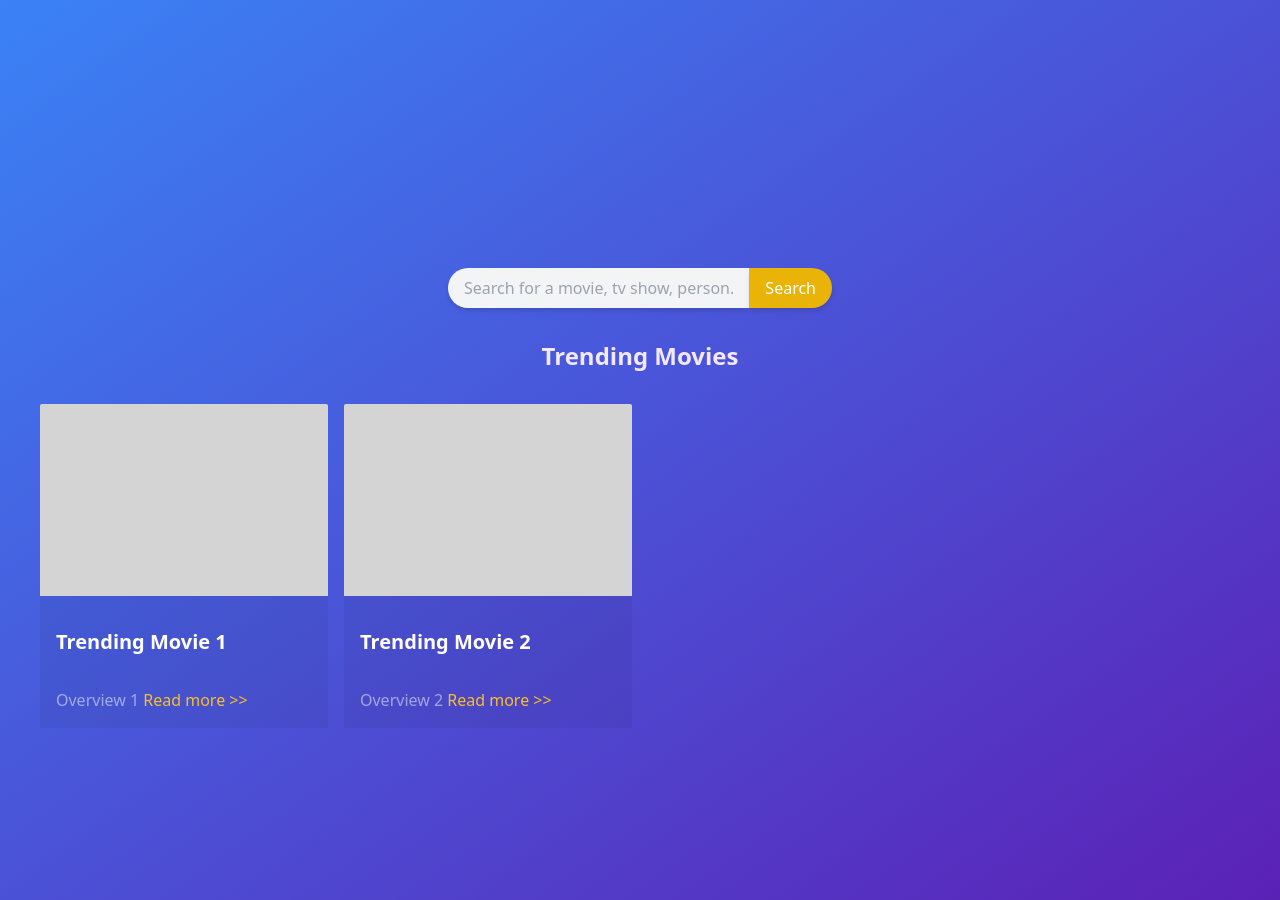
Test: App › should fetch search results when a search is performed
Type "Test Search" into the field with placeholder "Search for a movie, tv show, person....".
click(599, 288); type("Test Search")  # box [448, 268, 749, 308]
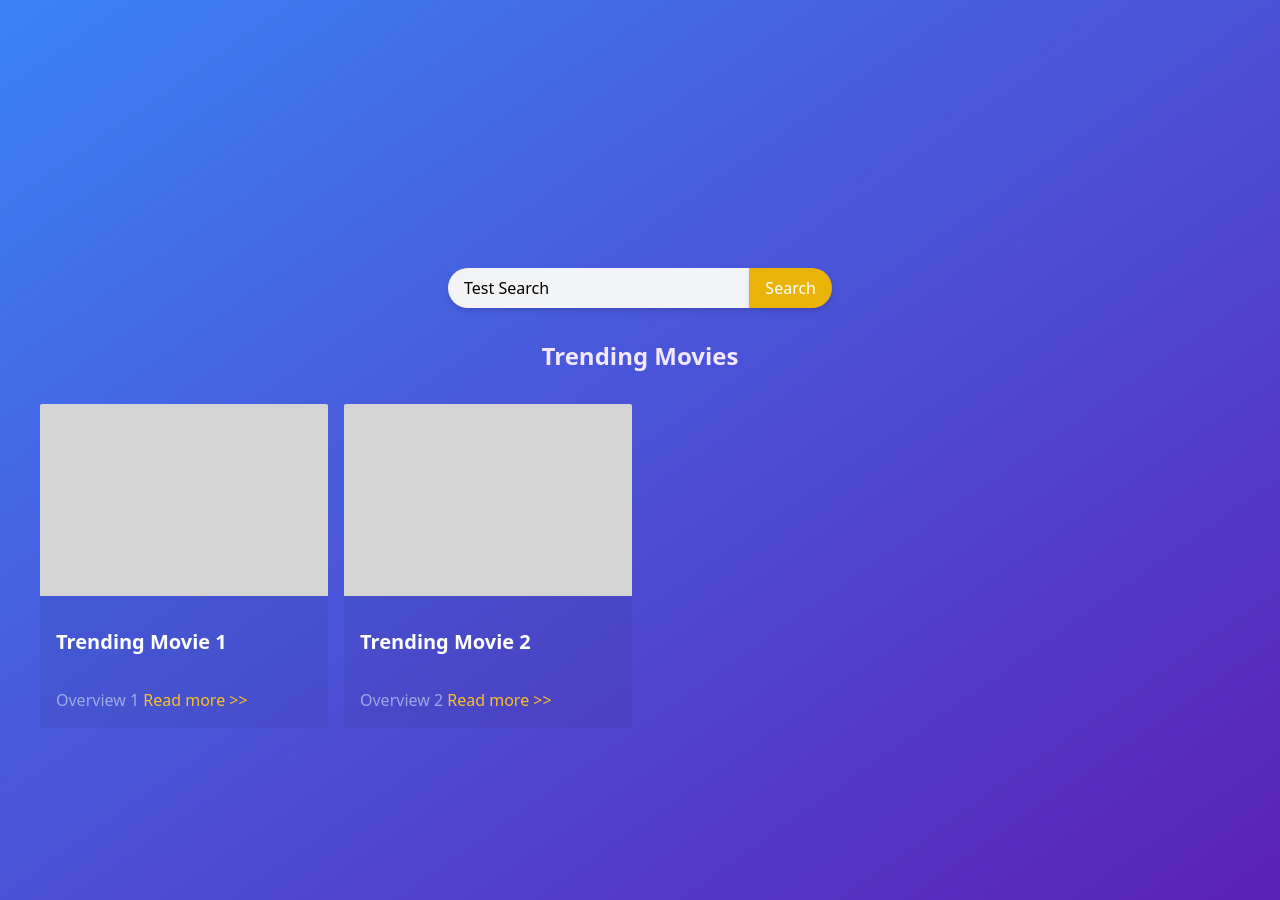
Click the button "Search".
click(791, 288)  # box [749, 268, 832, 308]
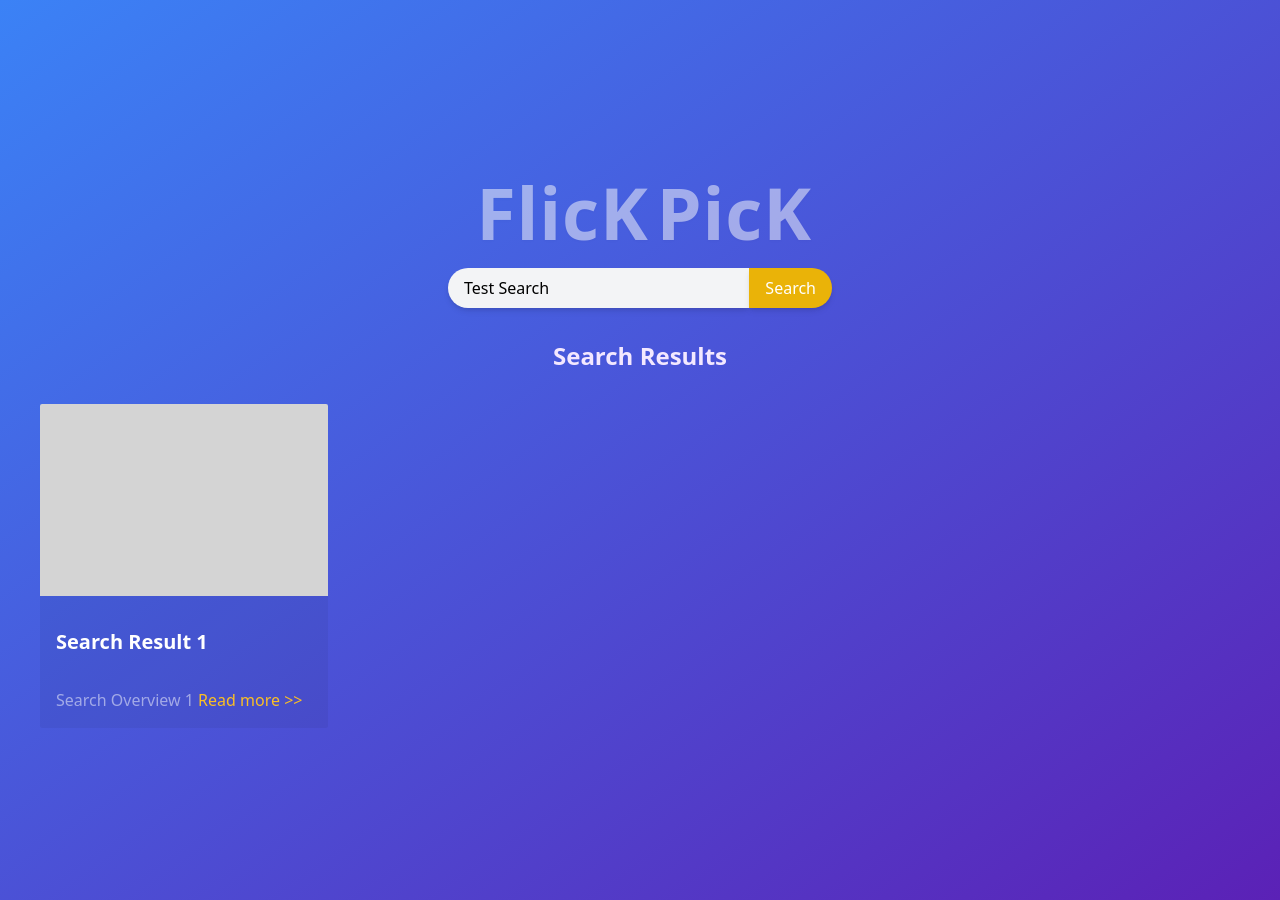
Expected: the heading "Search Result 1" is shown, [56, 628, 208, 655]
